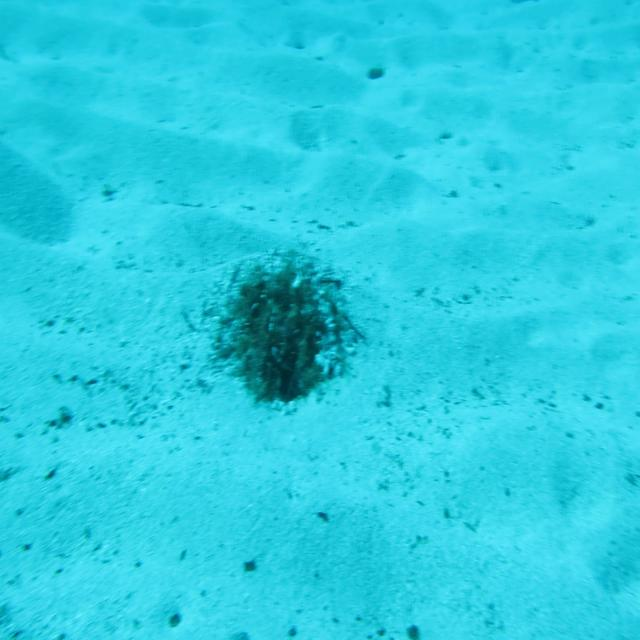core_nest: (261, 289, 304, 319)
nest: (211, 253, 357, 409)
